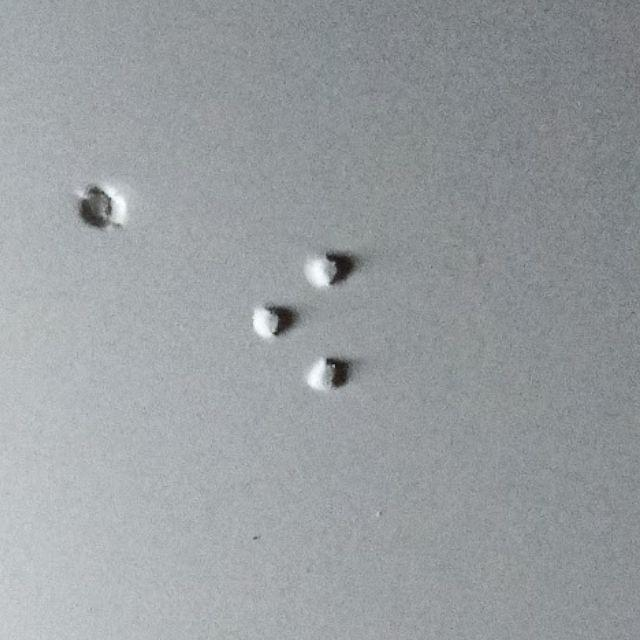ako: (251, 254, 352, 390)
